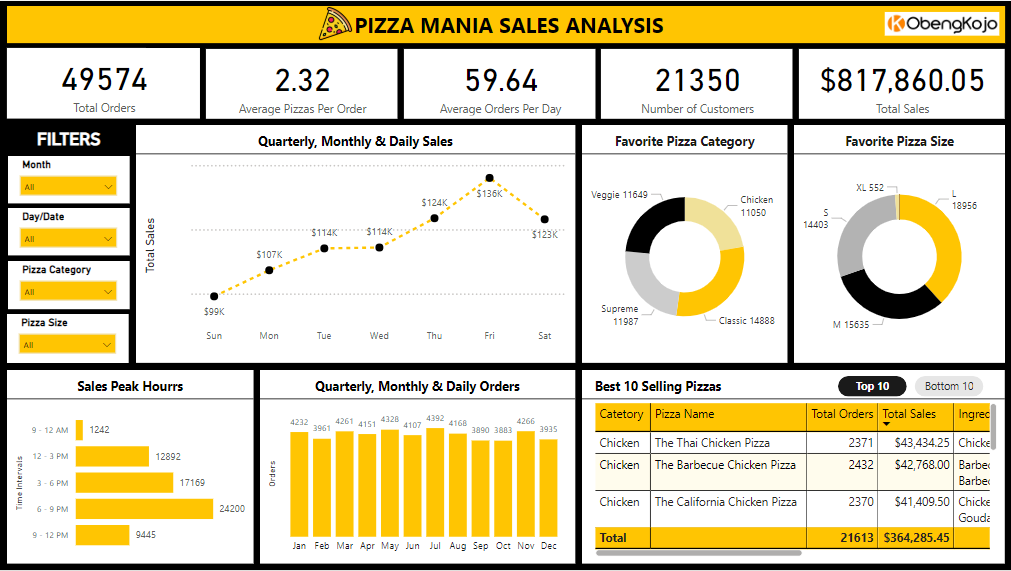

This screenshot's page, from the dashboard's own definition file:
{"tool":"powerbi","page":{"name":"Home page","canvas":[1280,720],"ordinal":0},"visuals":[{"type":"textbox","box":[11.3,6.1,1260.6,46.8],"z":0},{"type":"tableEx","title":"Best Selling Pizzas","fields":{"Values":["Pizza_Types.Catetory","Pizza_Types.Pizza Name","Measures (2).Total Orders","Measures (2).Total Sales","Pizza_Types.Ingredients"]},"box":[736.3,468,532.6,243.6],"z":1000},{"type":"tableEx","title":"Worst Selling Pizzas","fields":{"Values":["Pizza_Types.Catetory","Pizza_Types.Pizza Name","Measures (2).Total Orders","Measures (2).Total Sales"]},"box":[736.3,468,532.6,240.9],"z":2000},{"type":"bookmarkNavigator","box":[1060.6,473.9,185,26.1],"z":3000},{"type":"image","box":[1113.9,9.4,156.1,40],"z":4000},{"type":"lineChart","title":"Quarterly, Monthly & Daily Sales","fields":{"Category":["Date.Quarter","Date.Month","Date.Day"],"Y":["Measures (2).Total Sales"]},"box":[172,157,556,301.2],"z":5000},{"type":"donutChart","title":"Favorite Pizza Category","fields":{"Category":["Pizza_Types.Catetory"],"Y":["Sum(Order_Details.Order Quantity)"]},"box":[736.3,156.9,260.1,301.4],"z":6000},{"type":"card","fields":{"Values":["Measures (2).Average Pizzas Per Order"]},"box":[645.5,60.6,308.3,88.1],"z":7000},{"type":"card","fields":{"Values":["Measures (2).Total Orders"]},"box":[328.6,60,307.1,88.6],"z":8000},{"type":"card","fields":{"Values":["Measures (2).Average Orders Per Day"]},"box":[963,60,308.5,88.5],"z":9000},{"type":"card","fields":{"Values":["Measures (2).Total Sales"]},"box":[11.4,60,308.6,88.6],"z":10000},{"type":"slicer","title":"Sales by Day","fields":{"Values":["Date.Day"]},"box":[9.6,262.3,154.3,60.4],"z":11000},{"type":"slicer","title":"Sales by Day","fields":{"Values":["Date.Month"]},"box":[9.6,193.9,154.3,62],"z":12000},{"type":"slicer","title":"Sales by Day","fields":{"Values":["Pizza_Types.Catetory"]},"box":[9.6,328.9,154.2,60.6],"z":13000},{"type":"slicer","title":"Sales by Day","fields":{"Values":["Pizzas.Pizza Size"]},"box":[9.4,396.1,153.9,62.2],"z":14000},{"type":"textbox","box":[9.5,156.4,153.6,34.1],"z":15000},{"type":"barChart","title":"Sales Peak Hourrs","fields":{"Category":["Orders.Time Intervals"],"Y":["Sum(Orders.Time Interval Sort)"]},"box":[8.3,466.6,312.4,245],"z":16000},{"type":"clusteredColumnChart","title":"Quarterly, Monthly & Daily Orders","fields":{"Category":["Date.Quarter","Date.Month","Date.Day"],"Y":["Sum(Order_Details.Order Quantity)"]},"box":[328.9,466.6,399.1,245],"z":17000},{"type":"donutChart","title":"Favorite Pizza Size","fields":{"Y":["Sum(Order_Details.Order Quantity)"],"Category":["Pizzas.Pizza Size"]},"box":[1004.7,156.9,267,301.4],"z":18000},{"type":"image","box":[440.4,2.8,61.9,52.3],"z":19000}]}

Visuals, with their boxes in screenshot pixels (x1, y1, x2, y2), scaled from the page's 1280x720 canvas onto the 1011x571 screenshot:
textbox: 9:5:1005:42
"Best Selling Pizzas" tableEx: 582:371:1002:564
"Worst Selling Pizzas" tableEx: 582:371:1002:562
bookmarkNavigator: 838:376:984:397
image: 880:7:1003:39
"Quarterly, Monthly & Daily Sales" lineChart: 136:125:575:363
"Favorite Pizza Category" donutChart: 582:124:787:363
card - Measures (2).Average Pizzas Per Order: 510:48:753:118
card - Measures (2).Total Orders: 260:48:502:118
card - Measures (2).Average Orders Per Day: 761:48:1004:118
card - Measures (2).Total Sales: 9:48:253:118
"Sales by Day" slicer: 8:208:129:256
"Sales by Day" slicer: 8:154:129:203
"Sales by Day" slicer: 8:261:129:309
"Sales by Day" slicer: 7:314:129:363
textbox: 8:124:129:151
"Sales Peak Hourrs" barChart: 7:370:253:564
"Quarterly, Monthly & Daily Orders" clusteredColumnChart: 260:370:575:564
"Favorite Pizza Size" donutChart: 794:124:1004:363
image: 348:2:397:44
